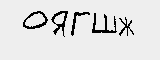Г: (70, 10, 90, 36)
Ж: (118, 17, 137, 37)
О: (23, 7, 47, 31)
Ш: (91, 12, 117, 35)
Я: (51, 9, 67, 38)
